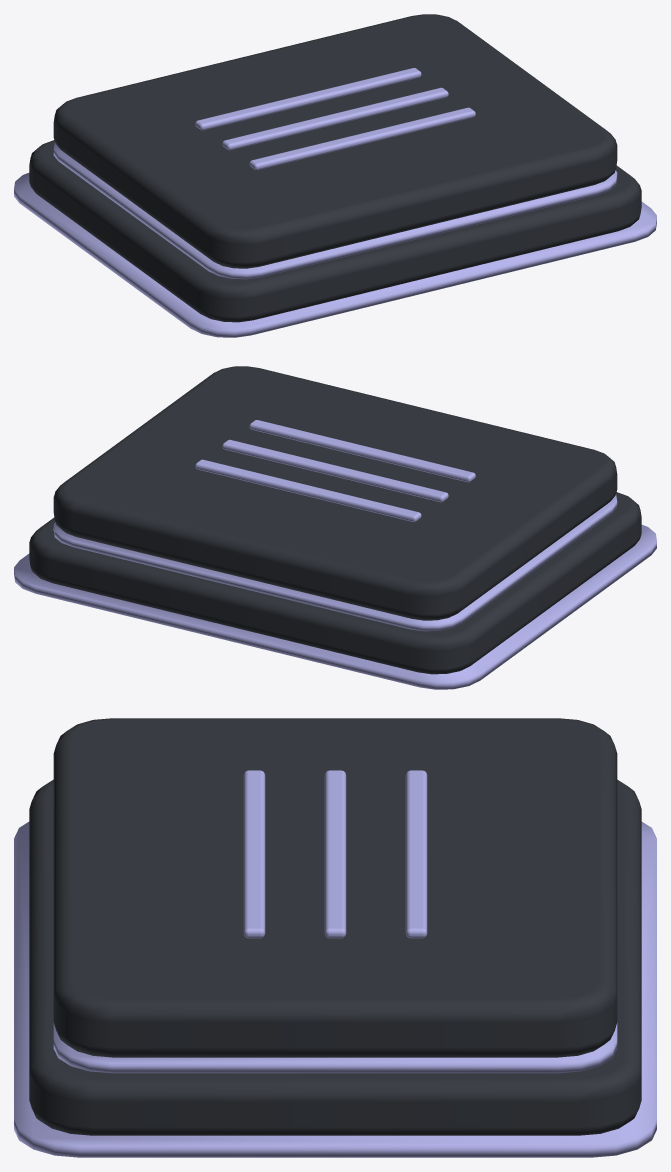
Rendered from stage.glb.
3 views of the same model, one above another, from view 1: azimuth 30°, elevation 25°; view 2: azimuth 150°, elevation 25°; view 3: azimuth 270°, elevation 25° (orthographic). The views are drawn at different scales.
Visible parts, largest first — view 1: module-high, module-low, rim, gap, line.001, line, line.002; view 2: module-high, module-low, rim, gap, line.001, line.002, line; view 3: module-high, module-low, rim, gap, line, line.002, line.001.
Boxes of the visible parts, x1,y1,x2,y2 form: module-high: [53, 14, 617, 268]; module-low: [29, 140, 641, 322]; rim: [14, 173, 656, 337]; gap: [53, 142, 617, 279]; line.001: [222, 87, 448, 150]; line: [249, 107, 475, 169]; line.002: [195, 68, 421, 130]; module-high: [53, 366, 617, 620]; module-low: [29, 492, 641, 674]; rim: [14, 525, 656, 689]; gap: [53, 494, 617, 631]; line.001: [222, 439, 448, 502]; line.002: [195, 459, 421, 521]; line: [249, 420, 475, 482]; module-high: [53, 718, 617, 1057]; module-low: [29, 779, 641, 1135]; rim: [14, 822, 656, 1157]; gap: [53, 1023, 617, 1073]; line: [243, 770, 265, 938]; line.002: [405, 770, 427, 938]; line.001: [324, 770, 346, 938].
Bounding box in the file's own units: 0.882 × 0.172 × 0.714.
